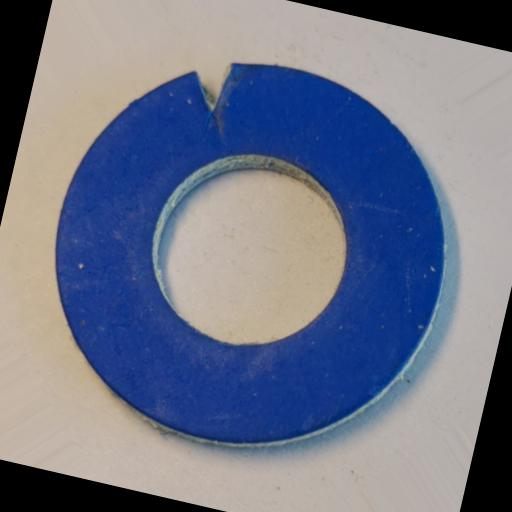defect: (178, 54, 238, 146)
